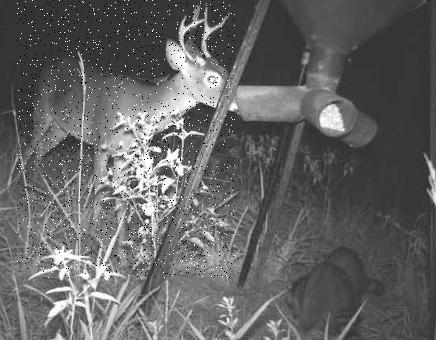Deer: (17, 0, 235, 278)
